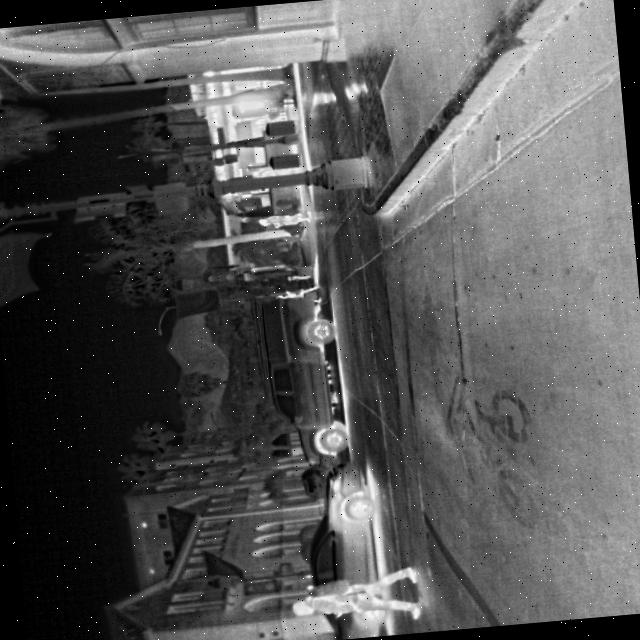Pedestrian: (285, 562, 423, 630), (256, 208, 314, 230), (272, 282, 324, 306)
Vehicle: (253, 278, 353, 470), (293, 461, 388, 640)
